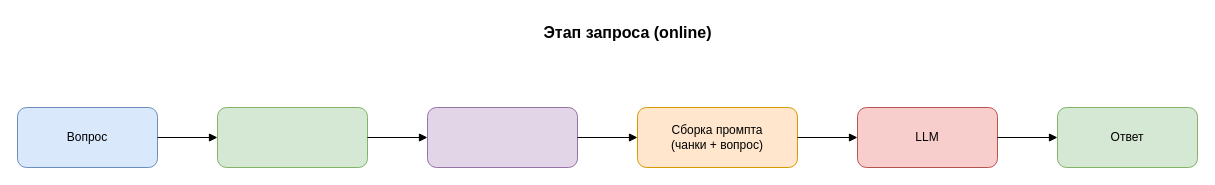
This 1215x185 diagram has some shape labels left out. The box of each missing label's shape, as (x1, y1, x2, y2) in pixels:
Поиск top-K в БД: (426, 106, 578, 168)
Эмбеддинг запроса: (216, 106, 368, 168)
